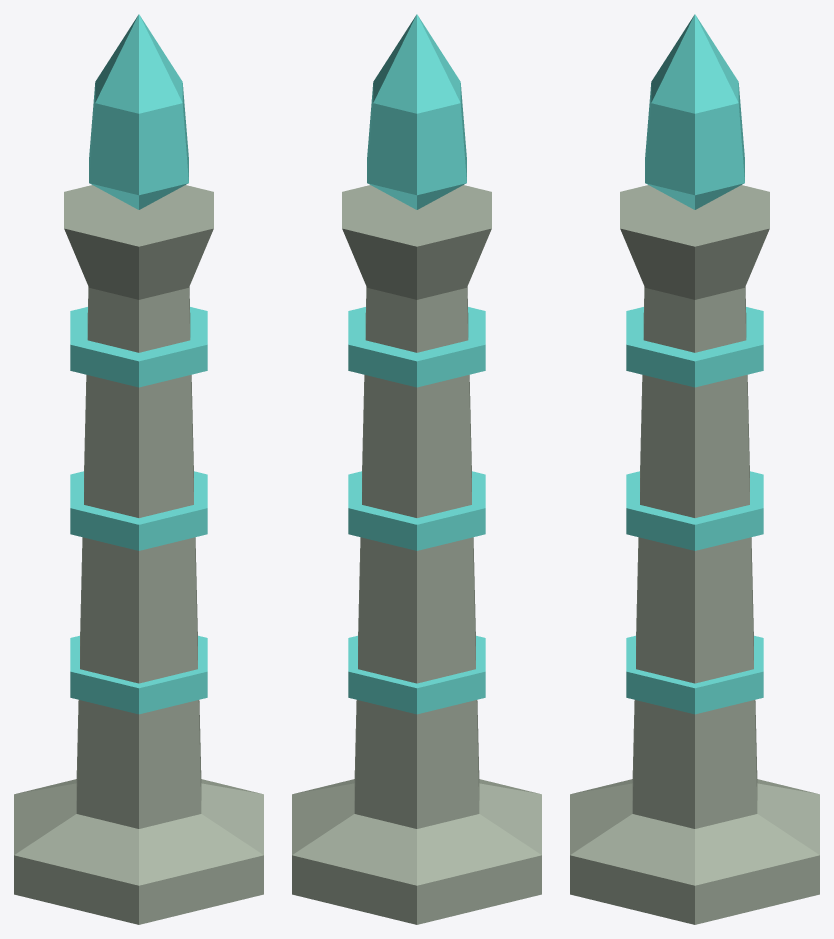
File: SH_Beacon_01.glb
3 renders of one model, left to right at view 1: azimuth 30°, elevation 25°; view 2: azimuth 150°, elevation 25°; view 3: azimuth 270°, elevation 25°, orthographic.
Visible parts, largest first — view 1: SH_Beacon_01; view 2: SH_Beacon_01; view 3: SH_Beacon_01.
Part boxes in pixels (<box>): SH_Beacon_01: <box>14,14,263,924</box>; SH_Beacon_01: <box>292,14,541,924</box>; SH_Beacon_01: <box>570,14,819,924</box>.
Size of the model in its own units: 0.4 by 1.3 by 0.3464.
Materials: 1 (1 with a texture image).
